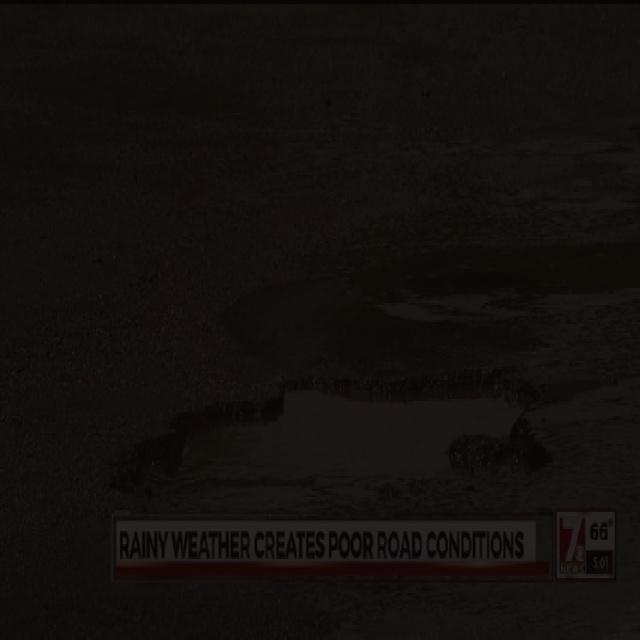Pothole: (79, 356, 562, 509), (376, 257, 542, 336)
